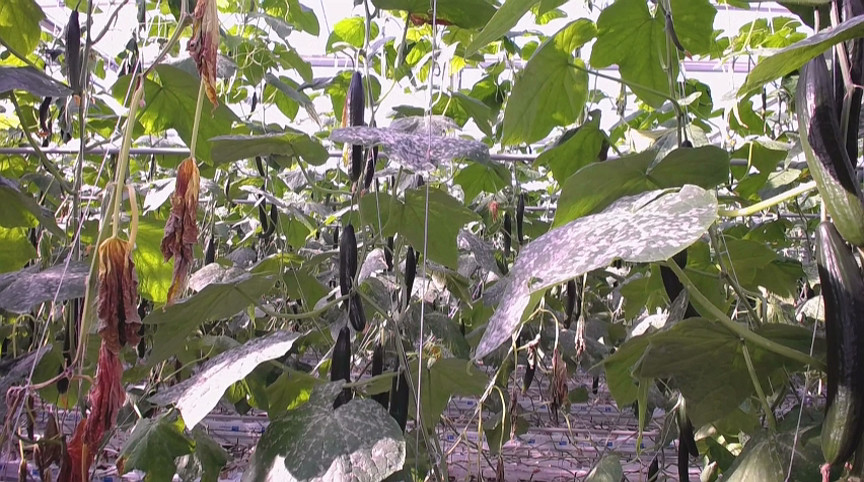cucumber: (797, 57, 864, 242), (815, 222, 864, 463), (338, 226, 367, 331), (343, 72, 365, 184), (329, 328, 353, 407), (65, 11, 80, 93)
